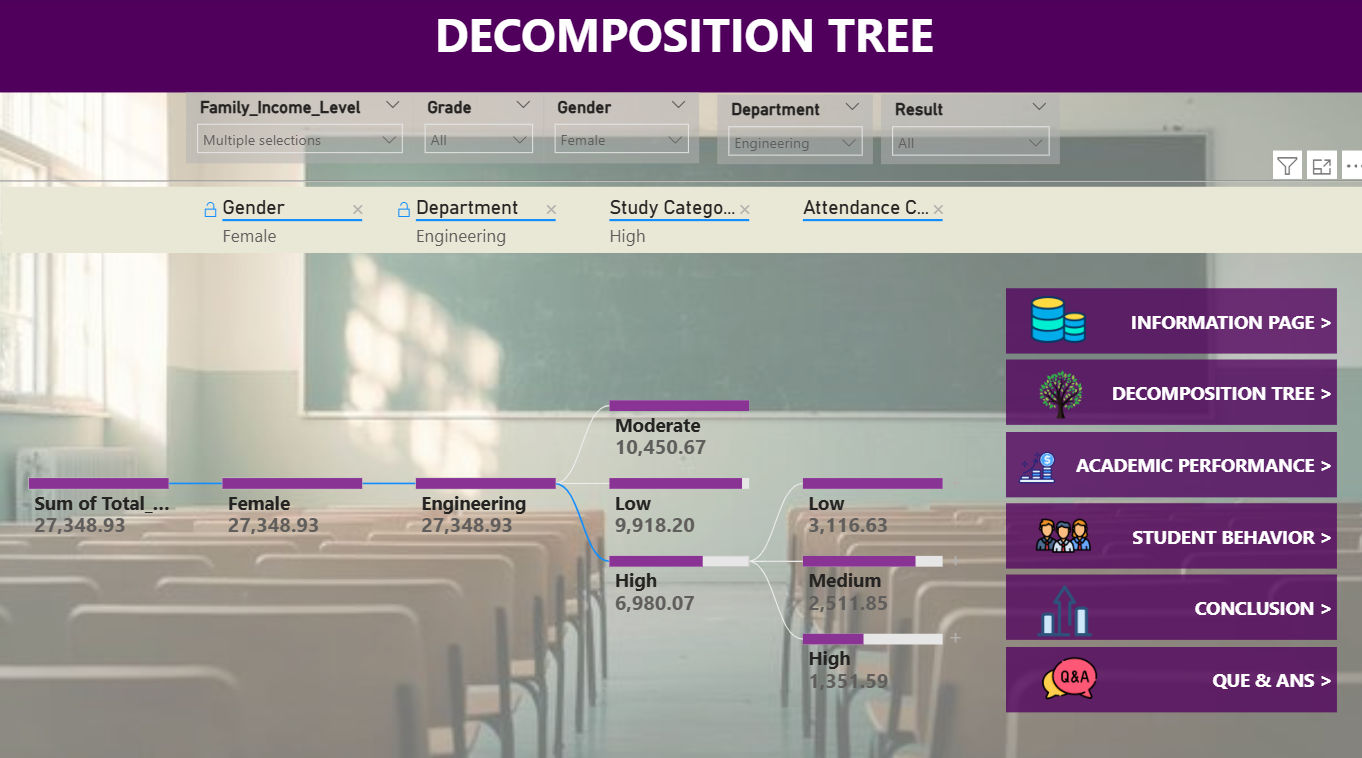

This screenshot's page, from the dashboard's own definition file:
{"tool":"powerbi","page":{"name":"Decomposition tree ","canvas":[1280,720],"ordinal":1},"visuals":[{"type":"textbox","box":[0,0,1280.3,89.2],"z":0},{"type":"actionButton","box":[939.2,270.6,307.8,60.9],"z":0,"group":"g1"},{"type":"decompositionTreeVisual","fields":{"Analyze":["Sum(Sheet1.Total_Score)"],"ExplainBy":["Sheet1.Gender","Sheet1.Department","Sheet1.Study Category","Sheet1.Attendance Category","Sheet1.Family_Income_Level","Sheet1.Parent_Education_Level","Sheet1.Stress_Level"]},"box":[0,170.4,1280.4,549.8],"z":1000},{"type":"actionButton","box":[939.2,337.2,307.8,60.9],"z":1000,"group":"g1"},{"type":"slicer","fields":{"Values":["Sheet1.Department"]},"box":[670.6,90.2,145.1,64.7],"z":2000},{"type":"actionButton","box":[939.2,403.9,307.8,60.9],"z":2000,"group":"g1"},{"type":"slicer","fields":{"Values":["Sheet1.Grade"]},"box":[388.2,88.2,121.6,66.7],"z":3000},{"type":"actionButton","box":[939.2,470.5,307.8,60.9],"z":3000,"group":"g1"},{"type":"slicer","fields":{"Values":["Sheet1.Gender"]},"box":[509.8,88.2,145.1,66.7],"z":4000},{"type":"actionButton","box":[939.2,537.2,307.8,60.9],"z":4000,"group":"g1"},{"type":"slicer","fields":{"Values":["Sheet1.Family_Income_Level"]},"box":[176.5,88.2,211.8,66.7],"z":5000},{"type":"actionButton","box":[939.2,603.8,307.8,60.9],"z":5000,"group":"g1"},{"type":"slicer","fields":{"Values":["Sheet1.Result"]},"box":[823.5,90.2,166.7,64.7],"z":6000},{"type":"image","box":[954.6,274.2,67.1,51.5],"z":6000,"group":"g1"},{"type":"group","id":"g1","title":"Group 1","box":[939.2,270.6,307.8,394.1],"z":7000},{"type":"image","box":[956.6,343.6,67.1,51.5],"z":7000,"group":"g1"},{"type":"image","box":[942.4,419.8,50.9,35.8],"z":8000,"group":"g1"},{"type":"image","box":[958.6,475.8,67.1,51.5],"z":9000,"group":"g1"},{"type":"image","box":[960.7,545.2,67.1,51.5],"z":10000,"group":"g1"},{"type":"image","box":[964.7,607.9,67.1,51.5],"z":11000,"group":"g1"}]}

Visuals, with their boxes in screenshot pixels (x1, y1, x2, y2), scaled from the page's 1280x720 canvas onto the 1362x758 screenshot:
textbox: bbox=[0, 0, 1361, 94]
actionButton: bbox=[999, 285, 1327, 349]
decompositionTreeVisual - Sum(Sheet1.Total_Score) x Sheet1.Gender: bbox=[0, 179, 1361, 757]
actionButton: bbox=[999, 355, 1327, 419]
slicer - Sheet1.Department: bbox=[714, 95, 868, 163]
actionButton: bbox=[999, 425, 1327, 489]
slicer - Sheet1.Grade: bbox=[413, 93, 542, 163]
actionButton: bbox=[999, 495, 1327, 559]
slicer - Sheet1.Gender: bbox=[542, 93, 697, 163]
actionButton: bbox=[999, 566, 1327, 630]
slicer - Sheet1.Family_Income_Level: bbox=[188, 93, 413, 163]
actionButton: bbox=[999, 636, 1327, 700]
slicer - Sheet1.Result: bbox=[876, 95, 1054, 163]
image: bbox=[1016, 289, 1087, 343]
"Group 1" group: bbox=[999, 285, 1327, 700]
image: bbox=[1018, 362, 1089, 416]
image: bbox=[1003, 442, 1057, 480]
image: bbox=[1020, 501, 1091, 555]
image: bbox=[1022, 574, 1094, 628]
image: bbox=[1027, 640, 1098, 694]
